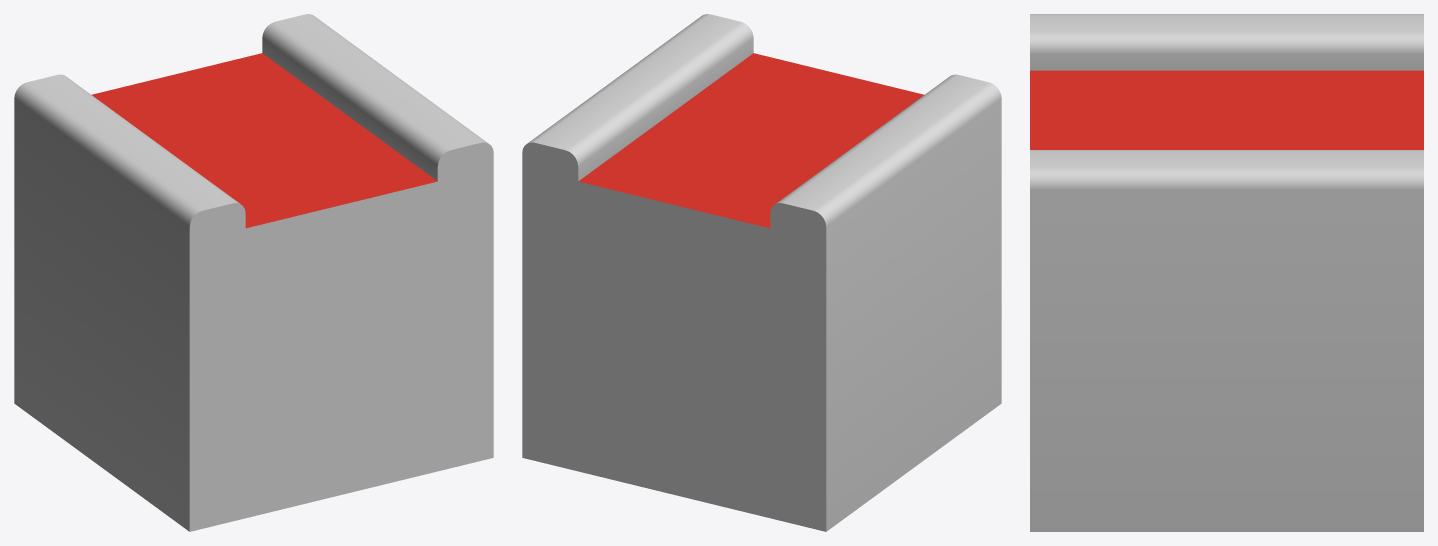
The model's file is path.fbx.
3 renders of one model, left to right at view 1: azimuth 30°, elevation 25°; view 2: azimuth 150°, elevation 25°; view 3: azimuth 270°, elevation 25°, orthographic. The views are drawn at different scales.
Visible parts, largest first — view 1: path; view 2: path; view 3: path.
Boxes of the visible parts, <box> form: path: <box>14,14,493,531</box>; path: <box>522,14,1001,531</box>; path: <box>1030,14,1423,531</box>.
Size of the model in its own units: 2 by 2 by 2.
